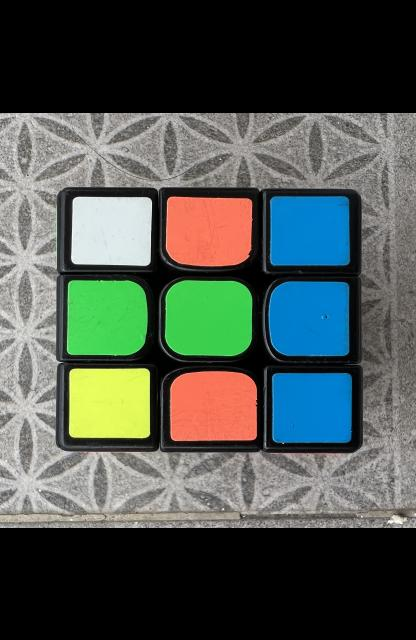Blue: (268, 280, 349, 356), (270, 195, 350, 265), (273, 372, 352, 441)
Green: (166, 279, 252, 356), (67, 279, 148, 355)
Orange: (166, 195, 252, 266), (170, 370, 257, 440)
White: (70, 195, 152, 265)
Yellow: (69, 368, 150, 437)
